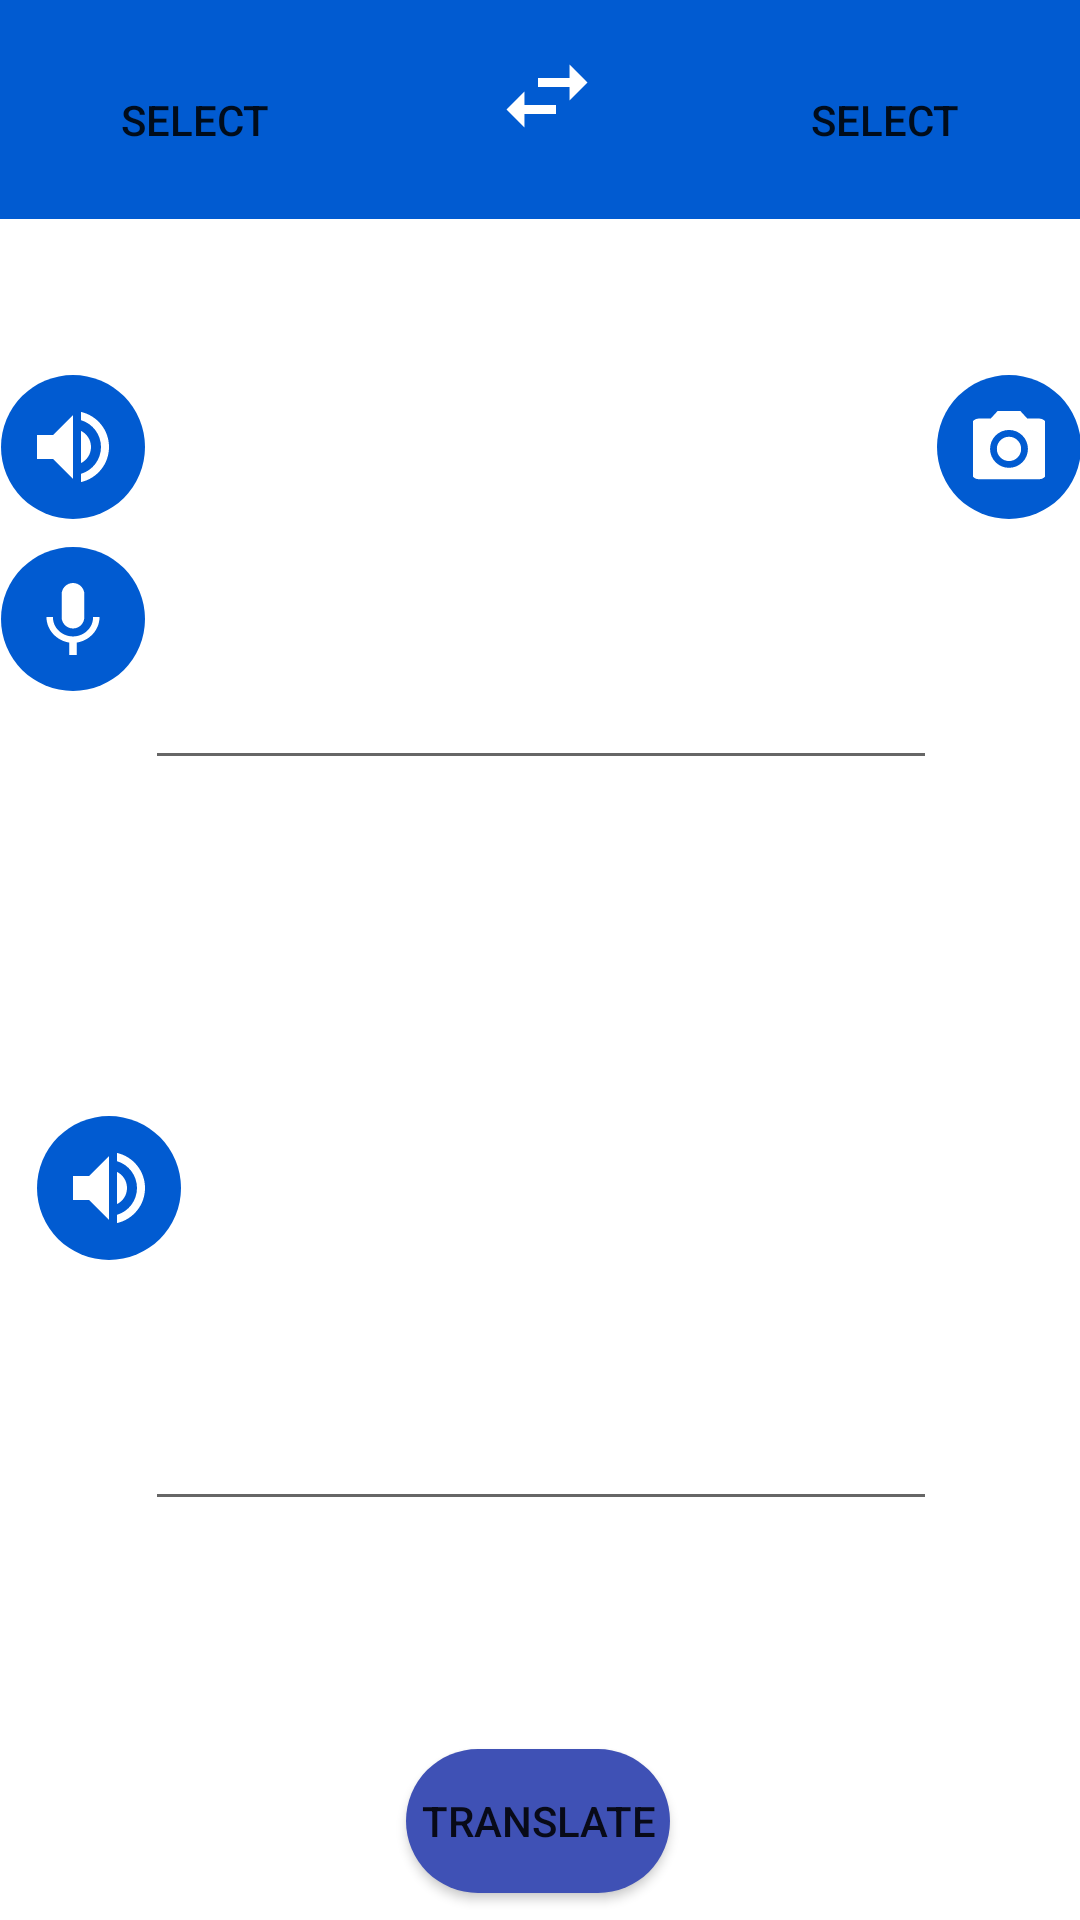

Named icons in this screenshot (1080×1920) and their centers, (x=x, y=y):
mic: (x=73, y=619)
photo camera: (x=1008, y=447)
speaker: (x=73, y=447), (x=109, y=1188)
